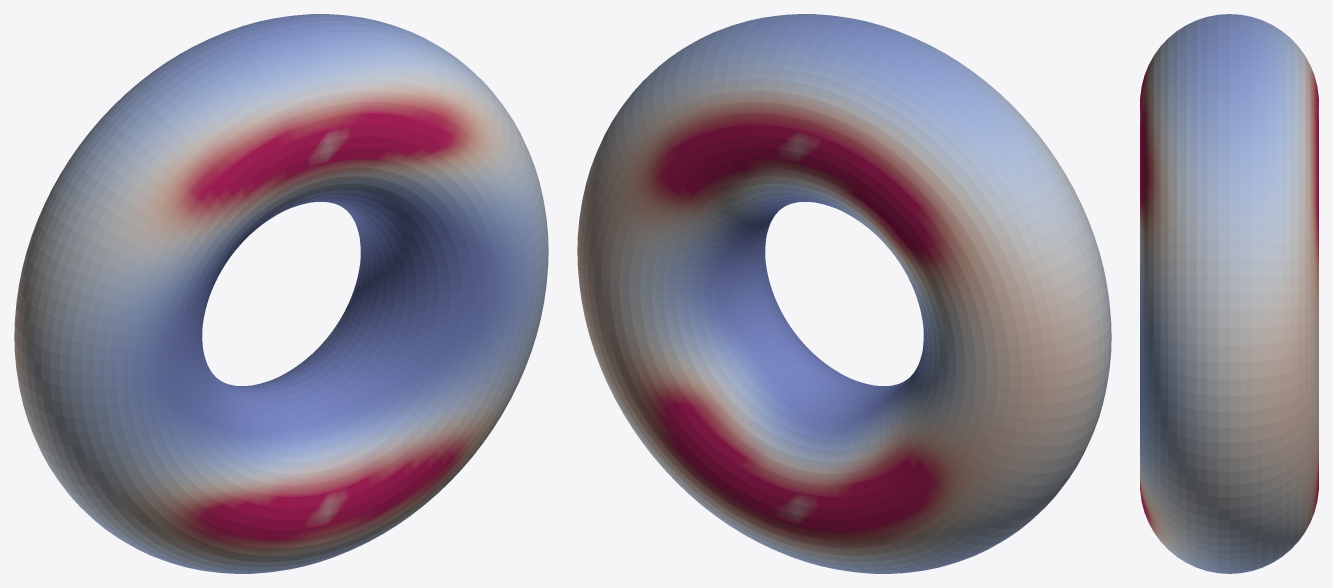
3 renders of one model, left to right at view 1: azimuth 30°, elevation 25°; view 2: azimuth 150°, elevation 25°; view 3: azimuth 270°, elevation 25°, orthographic. The views are drawn at different scales.
Visible parts, largest first — view 1: world; view 2: world; view 3: world.
Part boxes in pixels (x1=…): world: x1=14, y1=14, x2=548, y2=573; world: x1=577, y1=14, x2=1111, y2=573; world: x1=1140, y1=14, x2=1318, y2=573.
Size of the model in its own units: 19.6 by 19.6 by 6.25.
